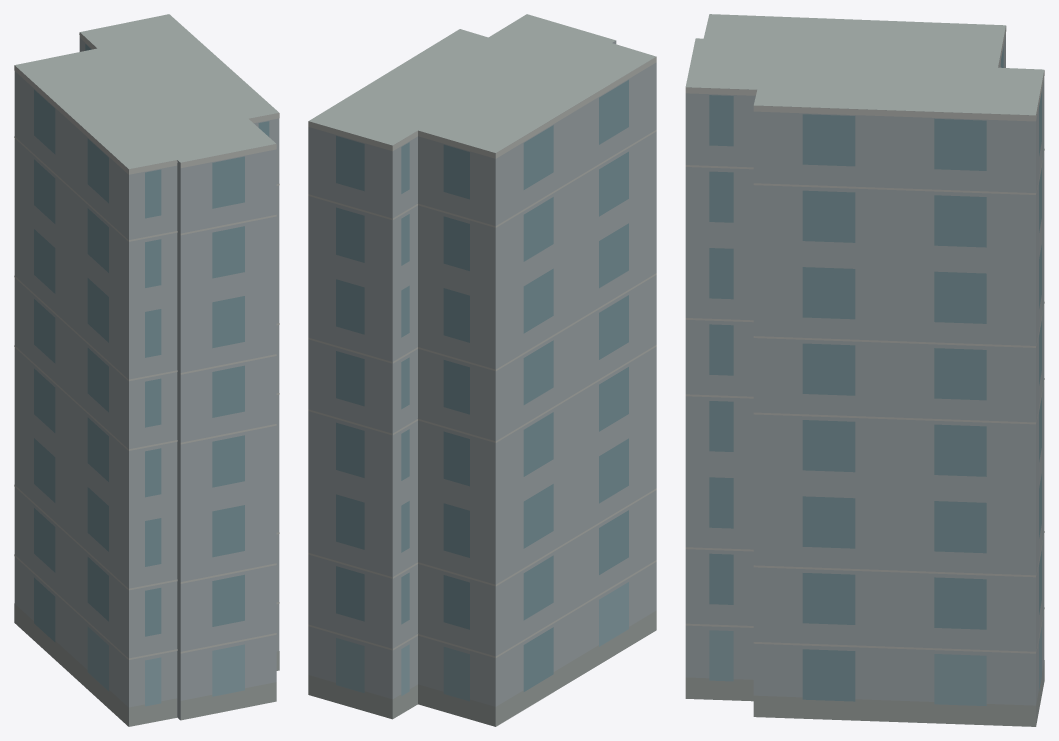
File: survey-upis-32658362.glb
The picture shows the model from 3 angles, left to right: view 1: azimuth 30°, elevation 25°; view 2: azimuth 150°, elevation 25°; view 3: azimuth 270°, elevation 25°; orthographic projection. The views are drawn at different scales.
Parts seen in each view (by area): view 1: survey-upis-32658362.tmp; view 2: survey-upis-32658362.tmp; view 3: survey-upis-32658362.tmp.
Boxes of the visible parts, x1,y1,x2,y2 form: survey-upis-32658362.tmp: (14, 14, 279, 726); survey-upis-32658362.tmp: (308, 14, 656, 726); survey-upis-32658362.tmp: (685, 14, 1044, 726).
Bounding box in the file's own units: 8.7 × 24.4 × 13.
